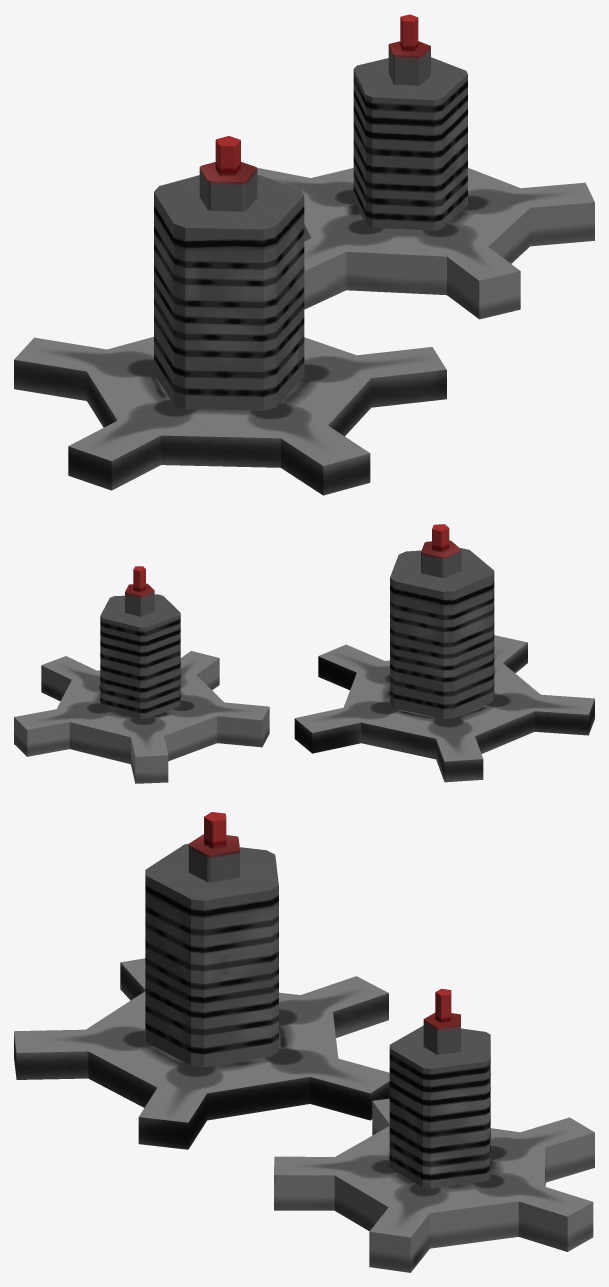
File: backgroundGears.FBX
3 renders of one model, top to bottom at view 1: azimuth 30°, elevation 25°; view 2: azimuth 150°, elevation 25°; view 3: azimuth 270°, elevation 25°, orthographic. The views are drawn at different scales.
Parts seen in each view (by area): view 1: Cylinder003; view 2: Cylinder003; view 3: Cylinder003.
Part boxes in pixels (x1,y1,x2,y2): Cylinder003: [14, 14, 594, 495]; Cylinder003: [14, 524, 594, 783]; Cylinder003: [14, 812, 594, 1272].
Bounding box in the file's own units: 420 × 167 × 354.
